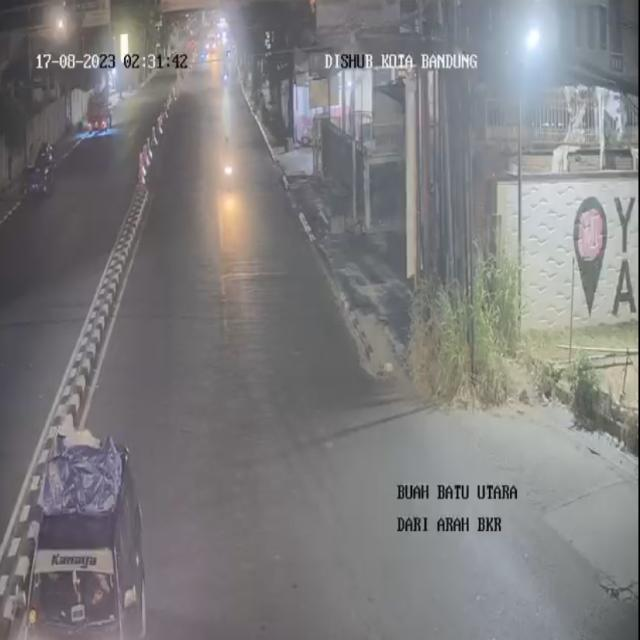cars: (19, 431, 144, 637)
